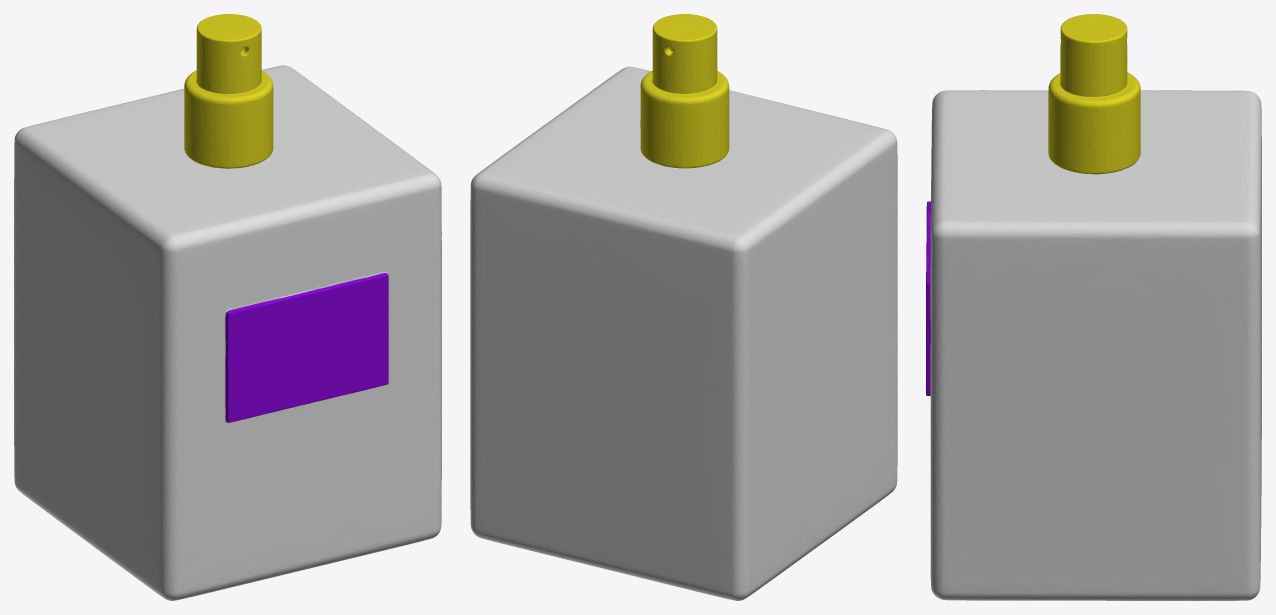
Rendered from MDL_Perfume_04.fbx.
3 views of the same model, side by side, from view 1: azimuth 30°, elevation 25°; view 2: azimuth 150°, elevation 25°; view 3: azimuth 270°, elevation 25° (orthographic). The views are drawn at different scales.
Visible parts, largest first — view 1: model_part0.011, model_part1.014; view 2: model_part0.011, model_part1.014; view 3: model_part0.011, model_part1.014.
Boxes of the visible parts, x1,y1,x2,y2 form: model_part0.011: [14, 65, 441, 600]; model_part1.014: [184, 14, 388, 422]; model_part0.011: [470, 66, 897, 600]; model_part1.014: [640, 14, 729, 168]; model_part0.011: [930, 90, 1261, 600]; model_part1.014: [926, 14, 1140, 395].
Size of the model in its own units: 68.49 by 114 by 68.54.
